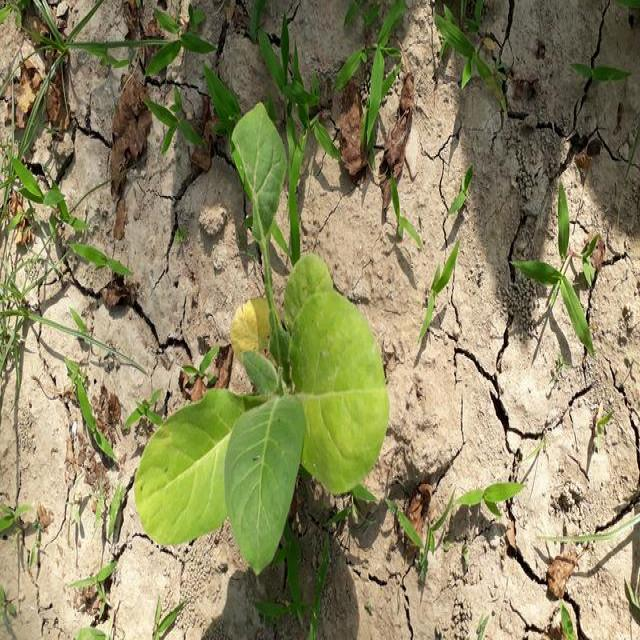crop: (125, 106, 394, 558)
